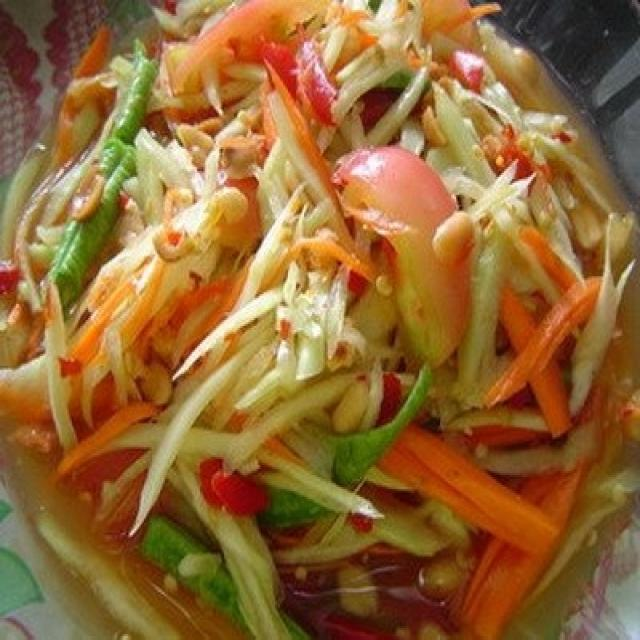蔬菜料理: (21, 16, 605, 604)
